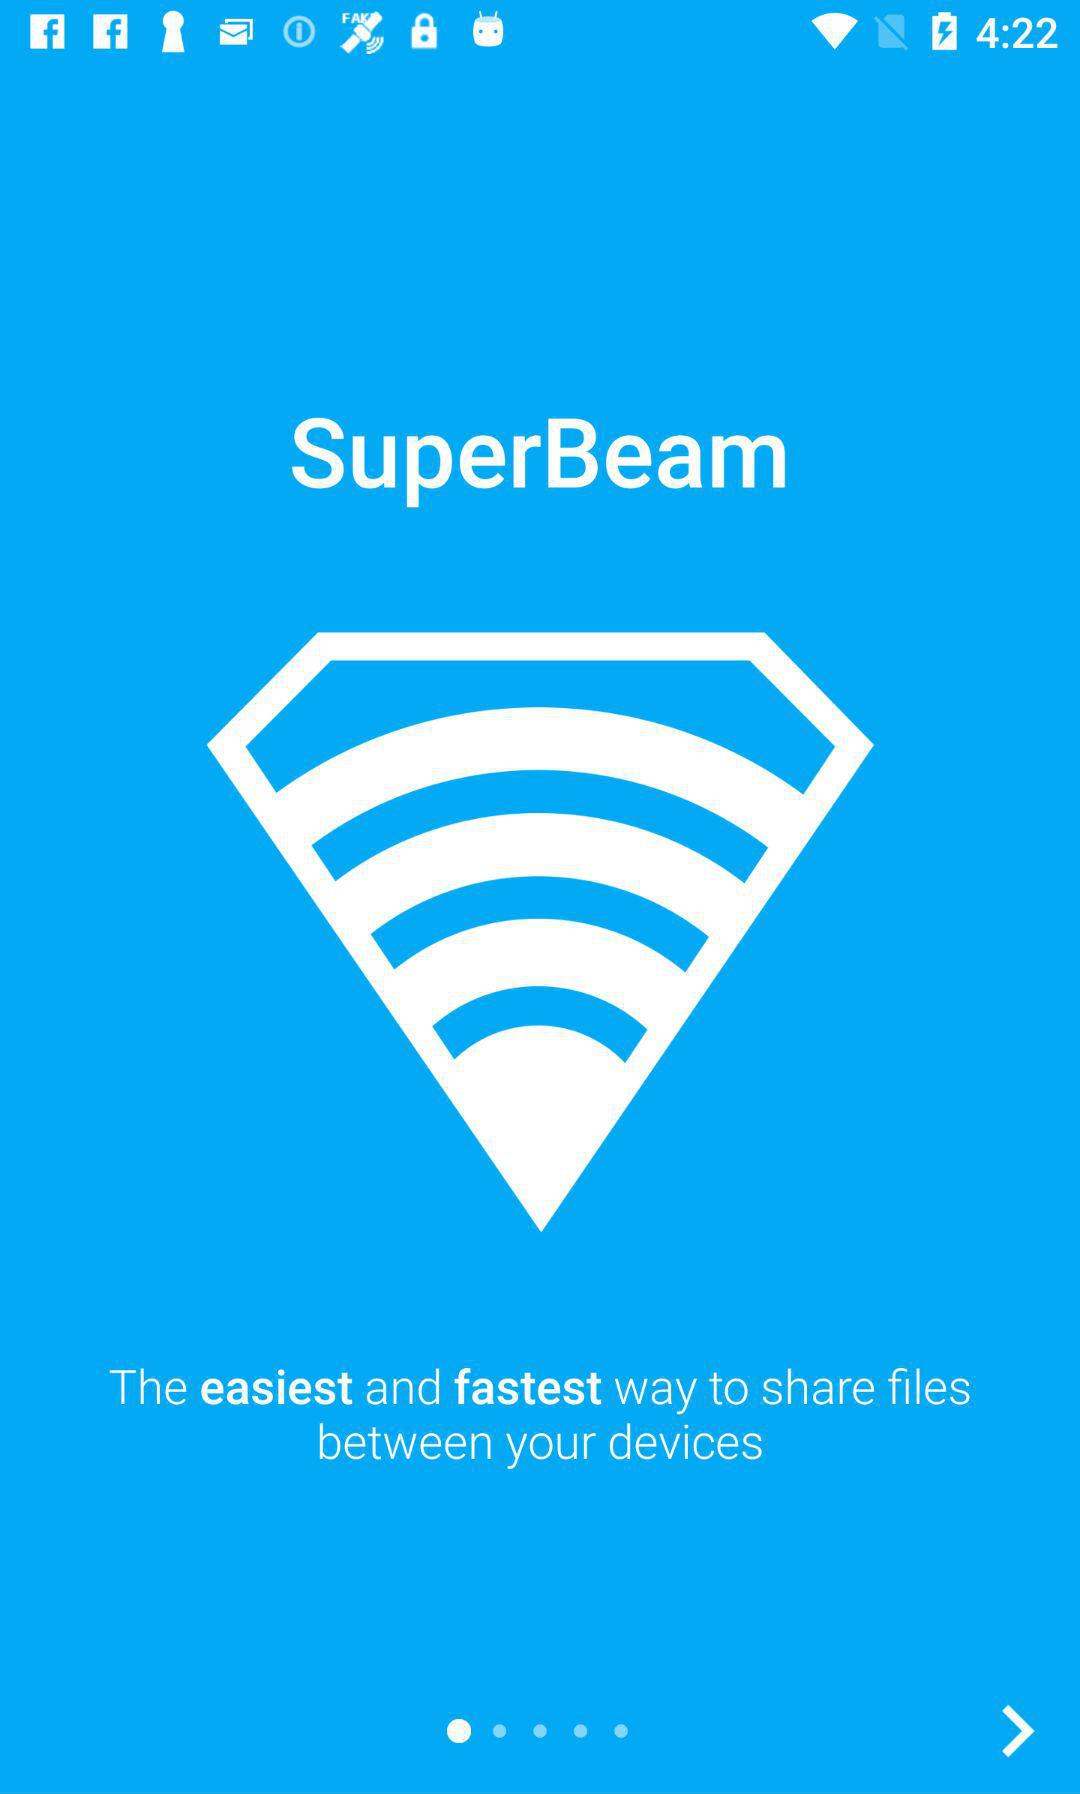Icon: (995, 1706, 1036, 1759)
Image: (206, 630, 878, 1235)
PageIndicator: (445, 1717, 632, 1745)
Text: (109, 1367, 971, 1470), (290, 416, 787, 511)
UpperTaskBar: (1, 1, 1080, 64)
